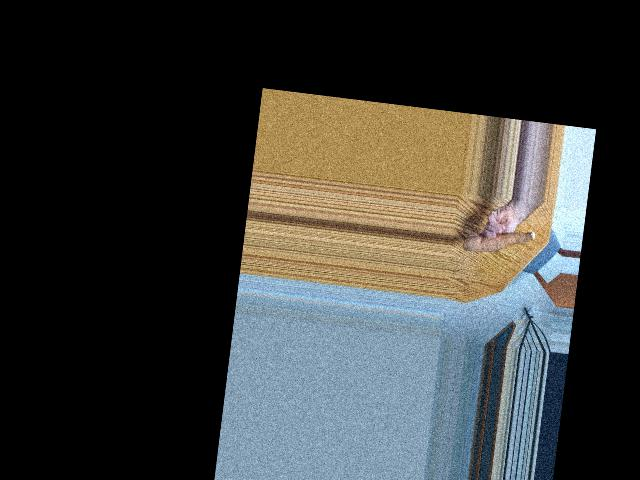sweet_potato: (463, 223, 537, 263)
